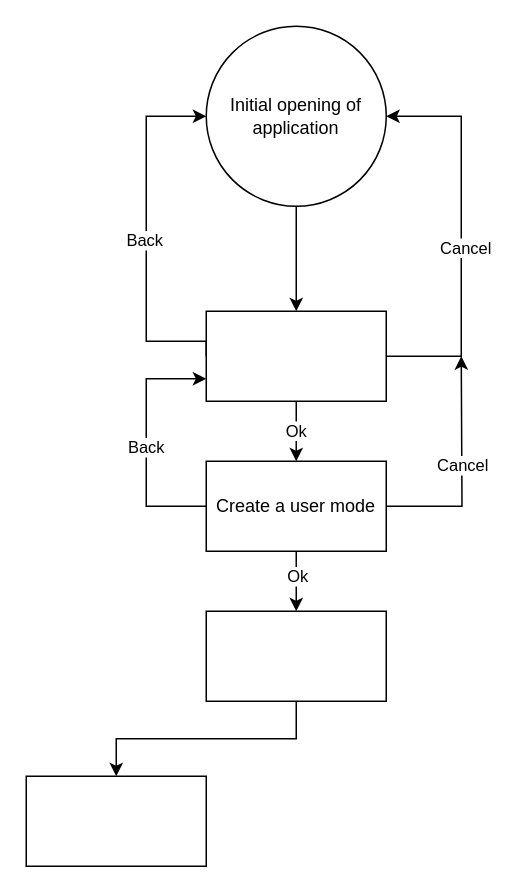
The diagram is 516 pixels wide and 893 high, and some of its shapes have lost their labels. The shapes that lost their labels are listed below. From the top down, each one's box as (x1, y1, x2, y2) in pixels, then its label:
(205, 310, 386, 401): Ask for application folder path
(205, 610, 386, 701): Load and display all applications (all unchecked)
